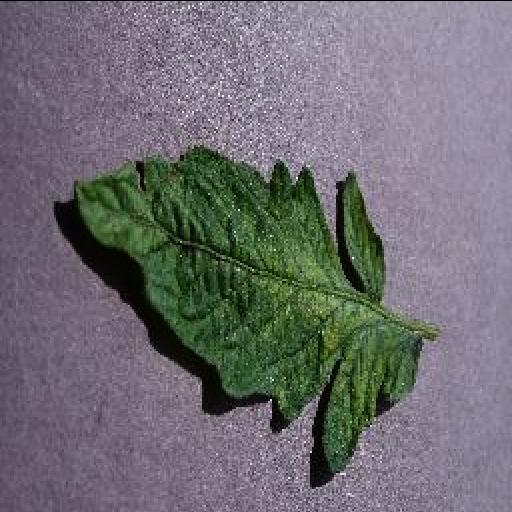Mosaic Virus: (74, 145, 422, 479)
